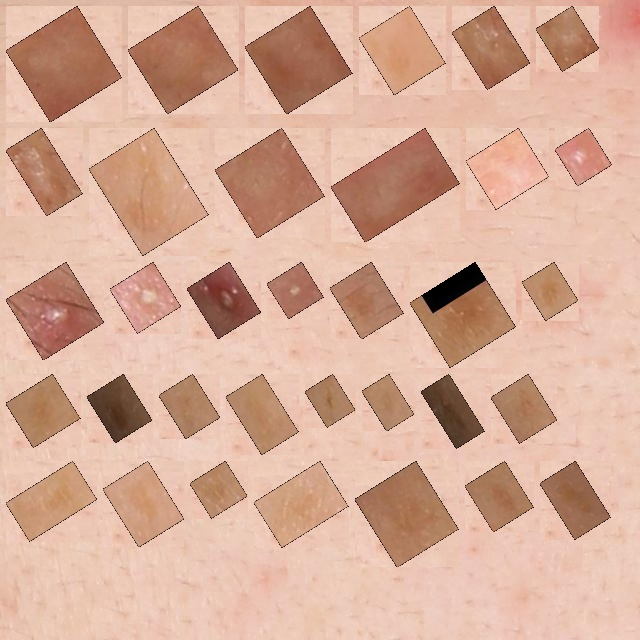hypertrophic_scar: (342, 139, 449, 231), (17, 17, 111, 111), (226, 139, 313, 227), (139, 17, 227, 103), (256, 17, 341, 103), (477, 139, 538, 198), (17, 139, 71, 205), (463, 17, 519, 78), (547, 17, 588, 60)
melasma: (100, 139, 197, 244), (421, 273, 505, 356), (366, 472, 447, 556), (265, 472, 337, 536), (370, 17, 434, 84), (17, 472, 86, 530), (114, 472, 173, 536), (237, 385, 287, 443), (341, 273, 392, 328), (551, 472, 600, 528), (17, 385, 69, 436), (476, 472, 522, 521), (432, 385, 473, 437), (502, 385, 546, 432), (98, 385, 141, 432), (170, 385, 209, 427), (201, 472, 236, 507), (533, 273, 567, 309), (373, 385, 403, 420), (316, 385, 344, 416)
pustule: (17, 273, 93, 349), (198, 273, 250, 328), (121, 273, 170, 322), (566, 139, 601, 175), (278, 273, 312, 307)
